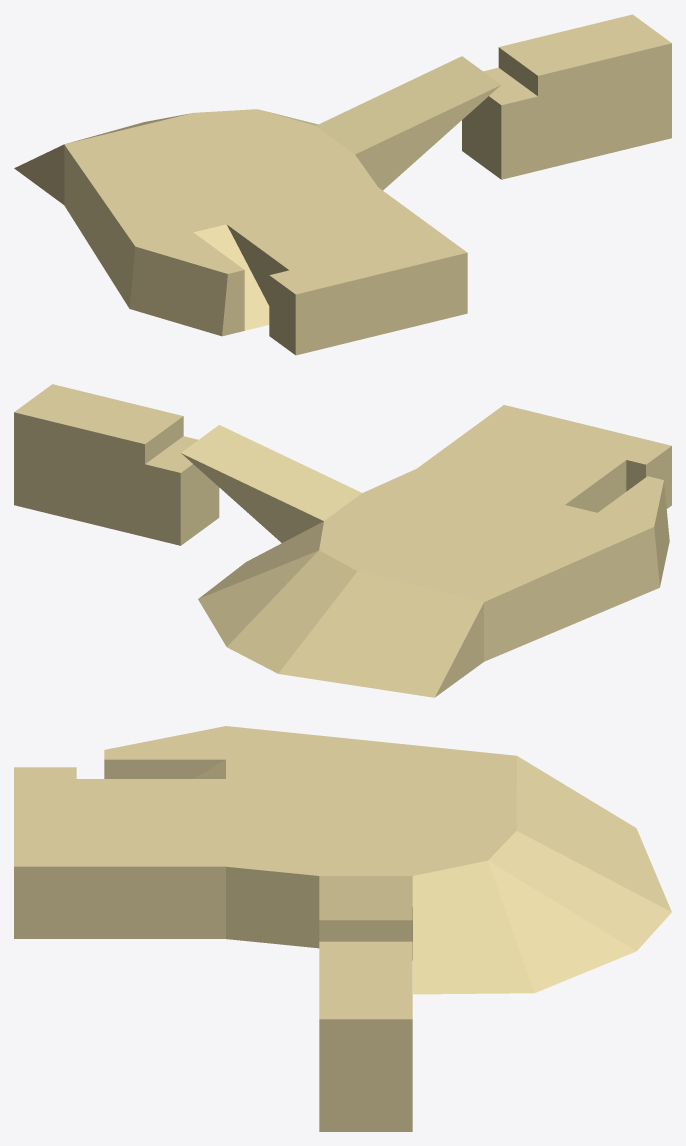
The model's file is puzzleMap1.glb.
3 renders of one model, top to bottom at view 1: azimuth 30°, elevation 25°; view 2: azimuth 150°, elevation 25°; view 3: azimuth 270°, elevation 25°, orthographic. The views are drawn at different scales.
Visible parts, largest first — view 1: Cube; view 2: Cube; view 3: Cube.
Part boxes in pixels (bbox=[...]): Cube: bbox=[14, 14, 671, 355]; Cube: bbox=[14, 384, 671, 697]; Cube: bbox=[14, 726, 671, 1131].
Bounding box in the file's own units: 29.96 × 4.68 × 24.72.
